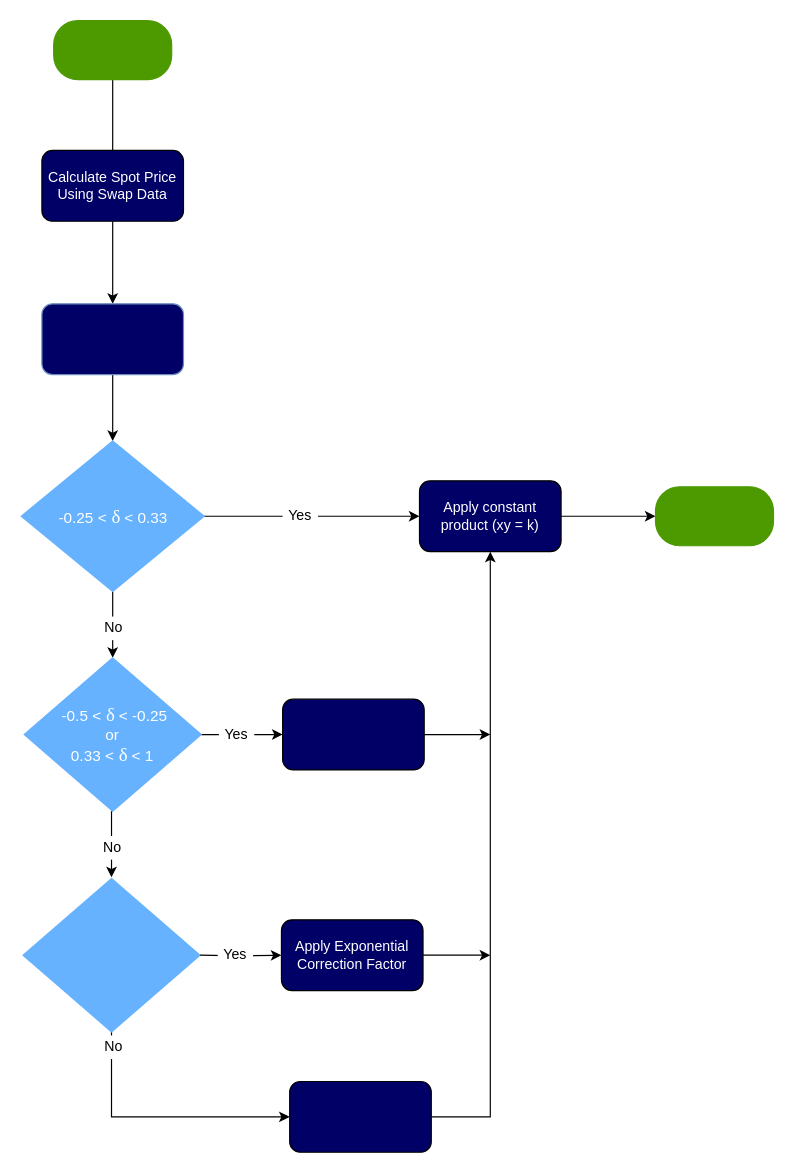
This 794x1173 diagram has some shape labels left out. The shapes that lost their labels are listed below. From the top down, each one's centre as x and y in pixels, then its label:
At [112,49]: "Start".
At [112,339]: "Calculate delta".
At [713,516]: "End".
At [352,734]: "Apply Linear Correction Factor".
At [111,954]: "-1 < δ < -0.5 or 1 < δ < 5".
At [360,1116]: "Calculate Max Stop Fee".
